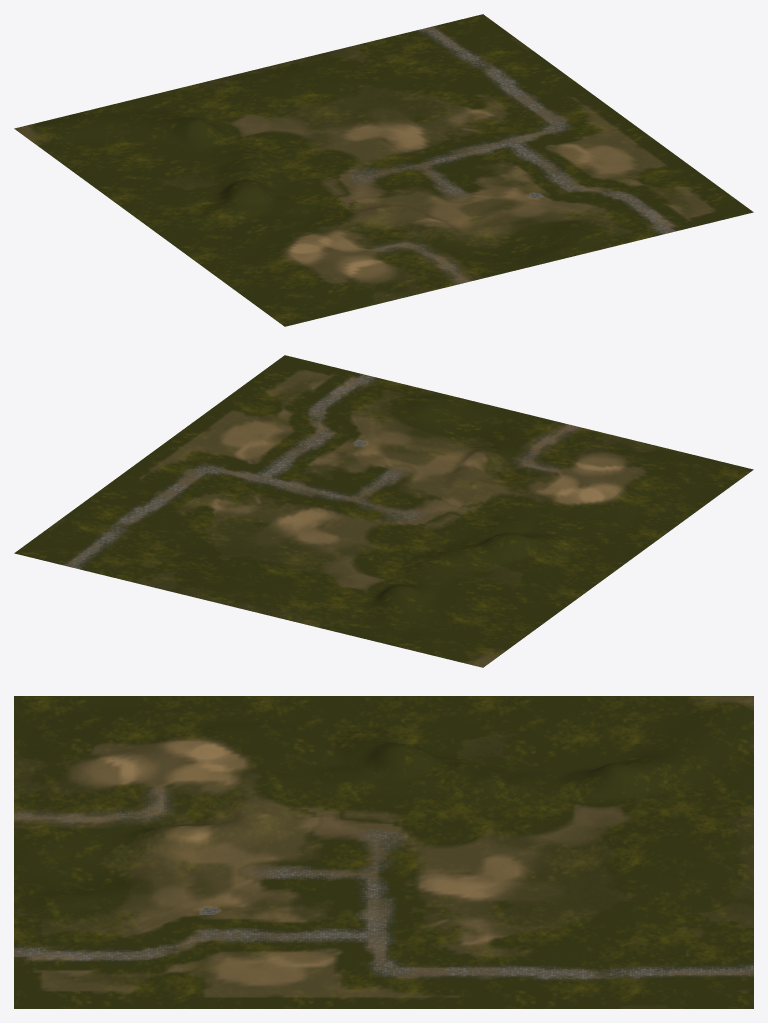
The model's file is Ground_Map_1.fbx.
3 renders of one model, top to bottom at view 1: azimuth 30°, elevation 25°; view 2: azimuth 150°, elevation 25°; view 3: azimuth 270°, elevation 25°, orthographic. The views are drawn at different scales.
Visible parts, largest first — view 1: Ground_Map_1; view 2: Ground_Map_1; view 3: Ground_Map_1.
Part boxes in pixels (x1=…): Ground_Map_1: x1=14, y1=14, x2=753, y2=326; Ground_Map_1: x1=14, y1=355, x2=753, y2=667; Ground_Map_1: x1=14, y1=696, x2=753, y2=1008.
Size of the model in its own units: 9000 by 304 by 9000.
